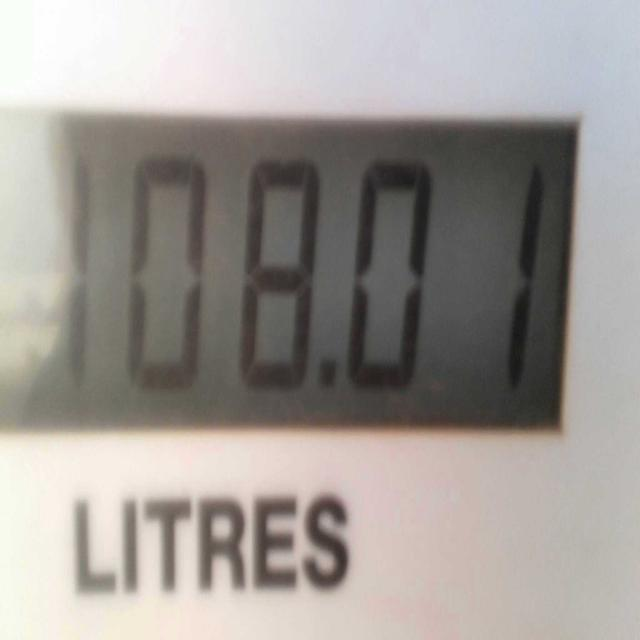.: (312, 336, 348, 416)
0: (342, 149, 432, 410), (124, 148, 205, 393)
1: (57, 150, 112, 392), (497, 162, 544, 386)
8: (242, 153, 318, 395)
